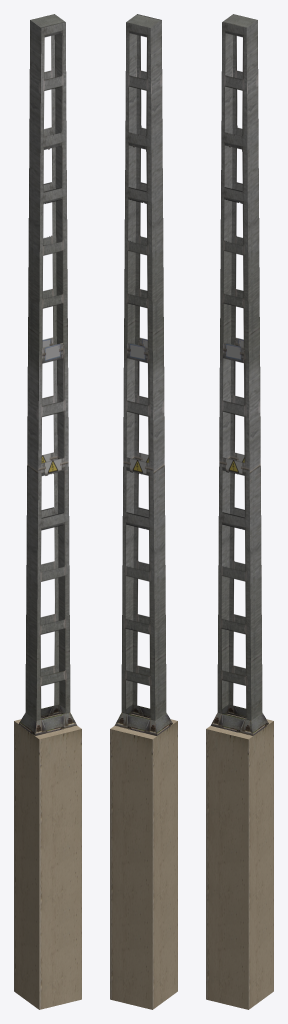
Rendered from op_kerch.gltf.
3 renders of one model, left to right at view 1: azimuth 30°, elevation 25°; view 2: azimuth 150°, elevation 25°; view 3: azimuth 330°, elevation 25°, orthographic.
Bounding box in the file's own units: 0.585 × 12.81 × 0.6.
1 material, 1 textured.
